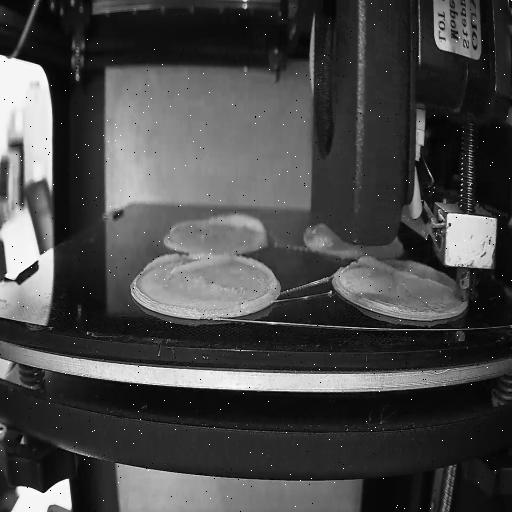over_extrusion: (361, 256, 451, 294), (238, 255, 280, 309), (142, 254, 232, 276), (205, 212, 271, 238), (166, 221, 180, 235)
